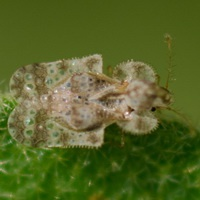insect: (8, 54, 173, 147)
